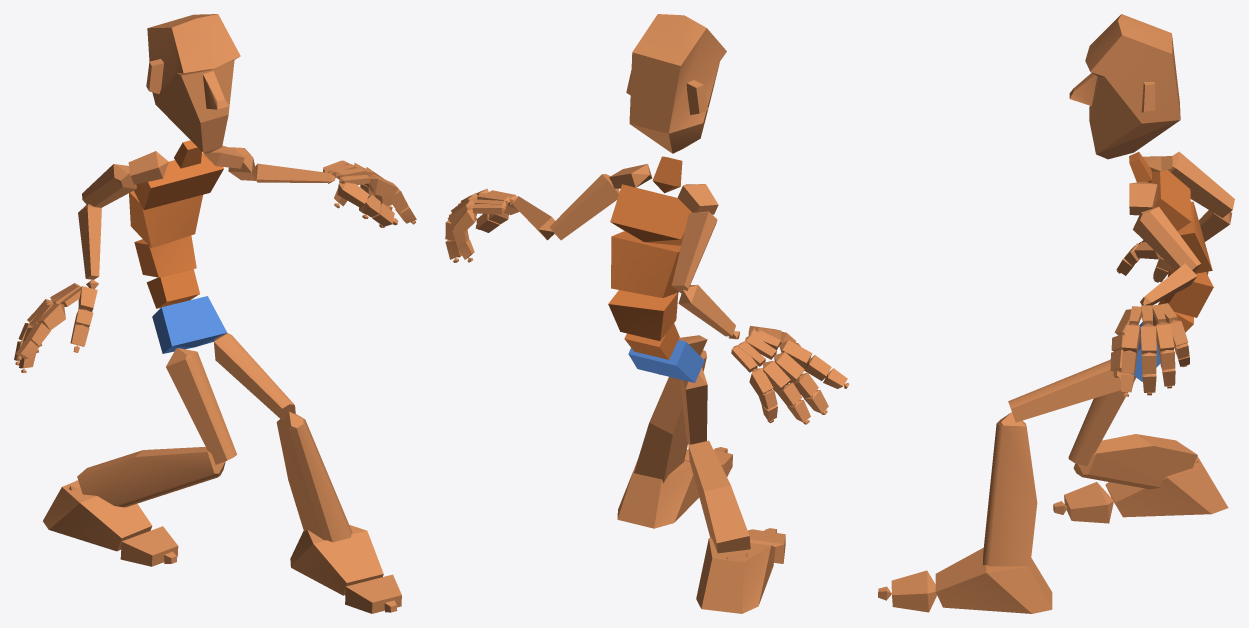
3 renders of one model, left to right at view 1: azimuth 30°, elevation 25°; view 2: azimuth 150°, elevation 25°; view 3: azimuth 270°, elevation 25°, orthographic. The views are drawn at different scales.
Visible parts, largest first — view 1: BOPED_Head, BOPED_R_leg, BOPED_L_leg, BOPED_R_foot, BOPED_R_foot01, BOPED_R_legup, Bone01, Bone04, Bone05, BOPED_L_legup, Bone03, BOPED_R_foot_toe01 (+9 smaller); view 2: BOPED_Head, BOPED_R_foot, BOPED_R_leg, BOPED_R_foot01, Bone04, BOPED_L_leg, Bone05, Bone03, BOPED_R_arm_upper, BOPED_L_arm_upper, Bone01, BOPED_R_legup (+7 smaller); view 3: BOPED_Head, BOPED_L_leg, BOPED_R_foot01, BOPED_R_leg, BOPED_R_foot, BOPED_L_legup, BOPED_L_arm_upper, BOPED_R_legup, BOPED_R_arm_upper, Bone05, BOPED_R_foot_toe01, BOPED_R_foot_toe04 (+6 smaller).
Part boxes in pixels (<box>): BOPED_Head: <box>146,14,240,153</box>; BOPED_R_leg: <box>77,447,225,507</box>; BOPED_L_leg: <box>276,411,352,542</box>; BOPED_R_foot: <box>43,480,152,551</box>; BOPED_R_foot01: <box>290,525,383,595</box>; BOPED_R_legup: <box>166,348,236,464</box>; Bone01: <box>152,296,227,353</box>; Bone04: <box>129,190,202,248</box>; Bone05: <box>134,152,223,209</box>; BOPED_L_legup: <box>214,333,295,421</box>; Bone03: <box>134,235,196,277</box>; BOPED_R_foot_toe01: <box>120,526,178,566</box>; BOPED_Head: <box>626,14,726,153</box>; BOPED_R_foot: <box>696,538,775,613</box>; BOPED_R_leg: <box>688,440,750,553</box>; BOPED_R_foot01: <box>617,459,699,528</box>; Bone04: <box>611,231,680,297</box>; BOPED_L_leg: <box>634,350,706,483</box>; Bone05: <box>610,184,692,245</box>; Bone03: <box>608,290,678,340</box>; BOPED_R_arm_upper: <box>671,211,717,293</box>; BOPED_L_arm_upper: <box>550,174,619,240</box>; Bone01: <box>628,340,704,382</box>; BOPED_R_legup: <box>679,367,707,444</box>; BOPED_Head: <box>1069,14,1180,159</box>; BOPED_L_leg: <box>983,412,1037,567</box>; BOPED_R_foot01: <box>935,548,1052,613</box>; BOPED_R_leg: <box>1073,434,1197,489</box>; BOPED_R_foot: <box>1105,456,1228,517</box>; BOPED_L_legup: <box>1008,359,1125,422</box>; BOPED_L_arm_upper: <box>1133,206,1200,272</box>; BOPED_R_legup: <box>1068,359,1136,465</box>; BOPED_R_arm_upper: <box>1168,151,1234,217</box>; Bone05: <box>1151,170,1191,231</box>; BOPED_R_foot_toe01: <box>1064,482,1113,523</box>; BOPED_R_foot_toe04: <box>891,570,936,612</box>.
Size of the model in its own units: 130 by 169 by 101.
